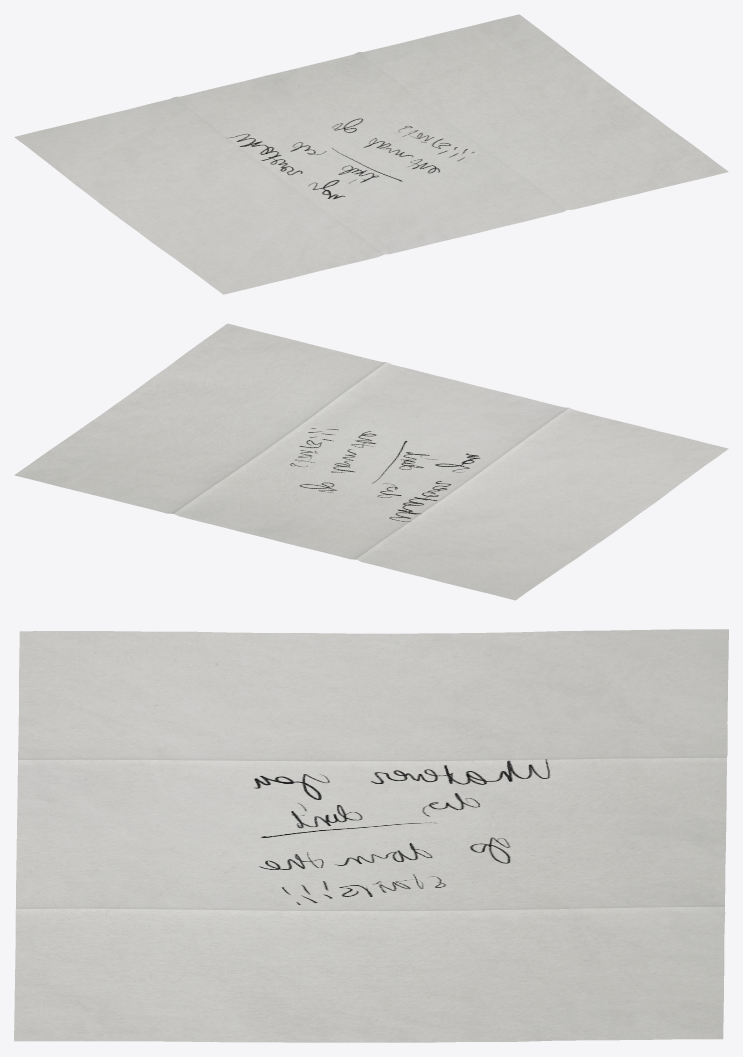
File: note.gltf
3 renders of one model, top to bottom at view 1: azimuth 30°, elevation 25°; view 2: azimuth 150°, elevation 25°; view 3: azimuth 270°, elevation 25°, orthographic. The views are drawn at different scales.
Visible parts, largest first — view 1: ppPaper; view 2: ppPaper; view 3: ppPaper.
Part boxes in pixels (x1,y1,x2,y2): ppPaper: [14, 14, 728, 294]; ppPaper: [14, 323, 728, 600]; ppPaper: [14, 629, 728, 1042].
Size of the model in its own units: 28.06 by 0.3073 by 20.49.
1 material, 1 textured.
